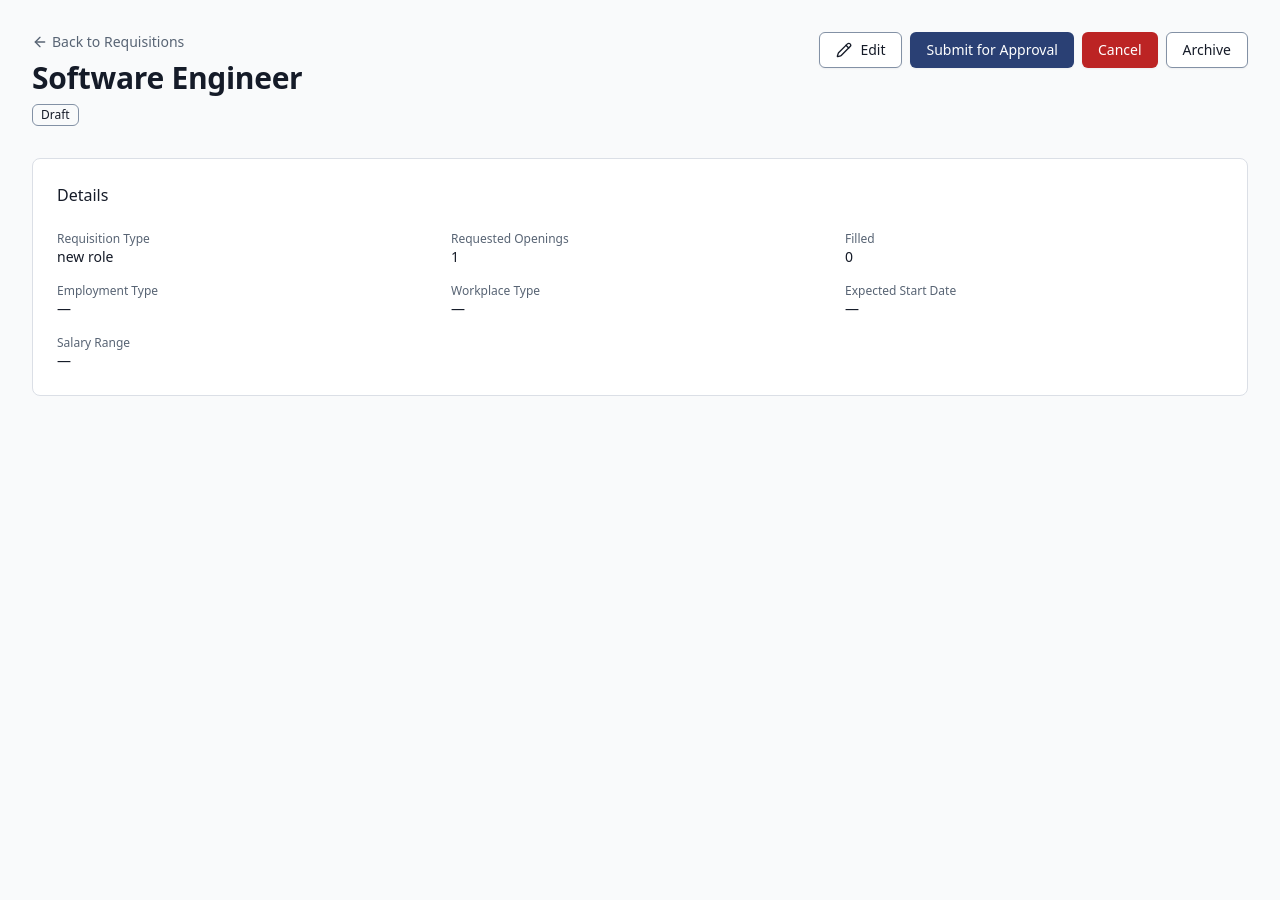
Job Requisition detail page › archive confirmation › archives exactly once on confirm, invalidates the requisition, and closes
The width and height of the screenshot is (1280, 900).
Click the button with test id "button-archive-requisition": [1207, 50] box [1166, 32, 1248, 68]
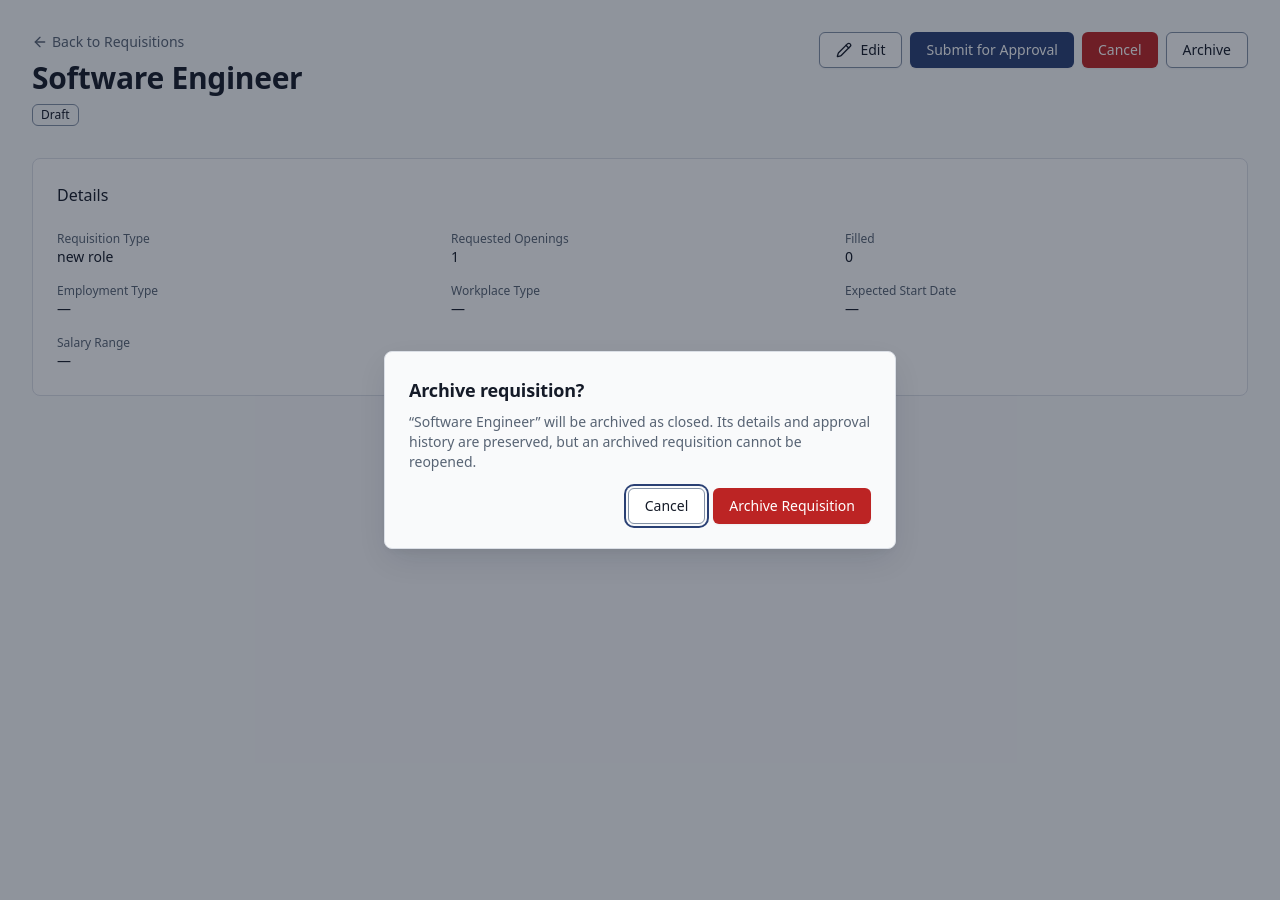
Click the button with test id "dialog-archive-requisition-confirm": [792, 506] box [713, 488, 871, 524]
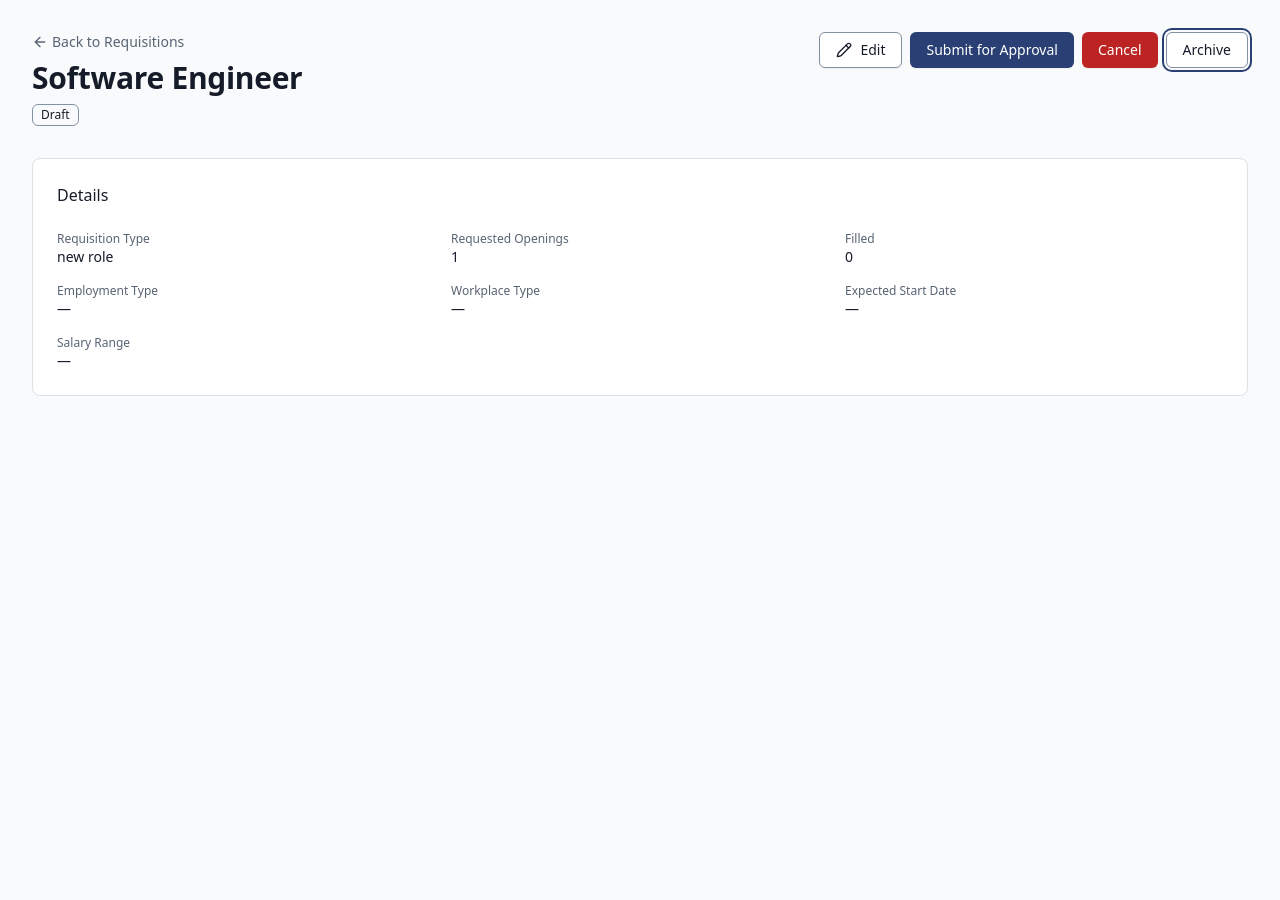
expect the dialog with test id "dialog-archive-requisition" is gone: met
